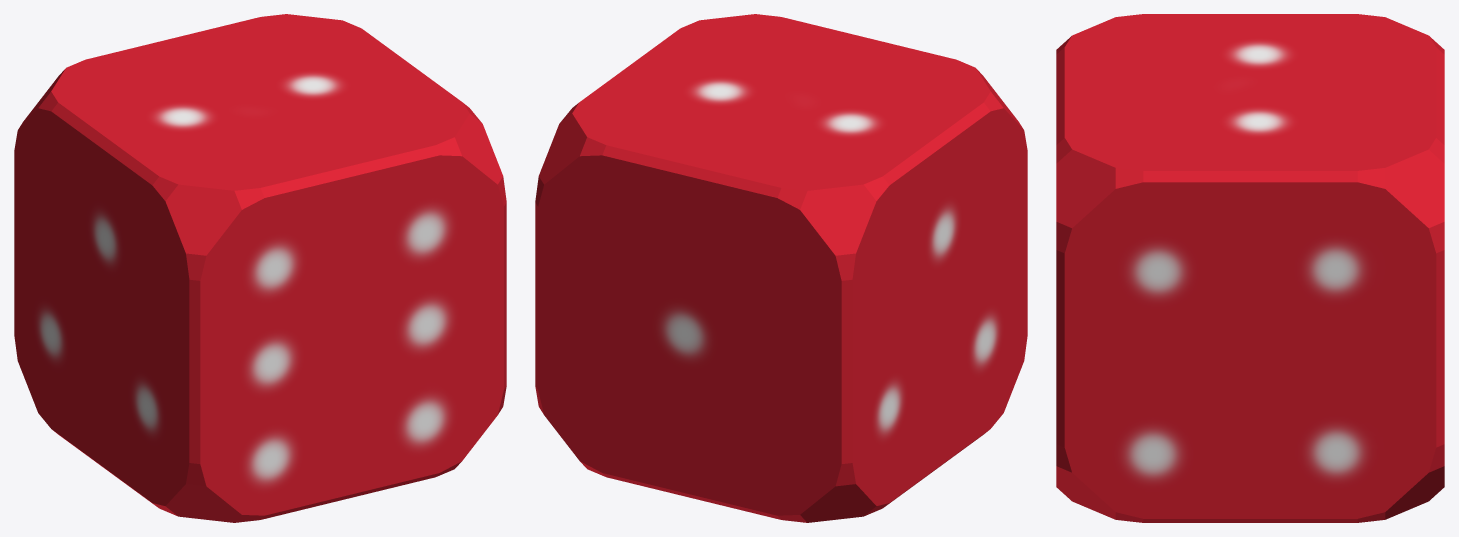
The model's file is dice.gltf.
3 renders of one model, left to right at view 1: azimuth 30°, elevation 25°; view 2: azimuth 150°, elevation 25°; view 3: azimuth 270°, elevation 25°, orthographic. The views are drawn at different scales.
Visible parts, largest first — view 1: dice; view 2: dice; view 3: dice.
Part boxes in pixels (x1=…): dice: x1=14, y1=14, x2=506, y2=522; dice: x1=535, y1=14, x2=1027, y2=522; dice: x1=1056, y1=14, x2=1444, y2=522.
Bounding box in the file's own units: 2 × 2 × 2.
1 material, 1 textured.
